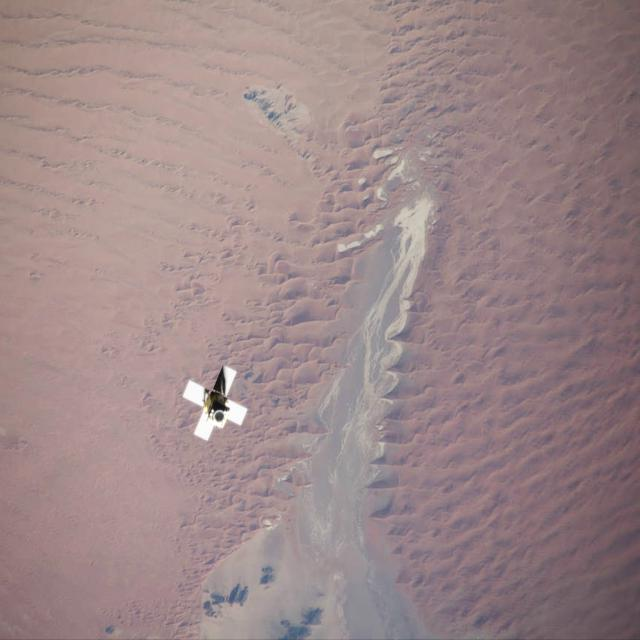satellite: (168, 357, 253, 458)
